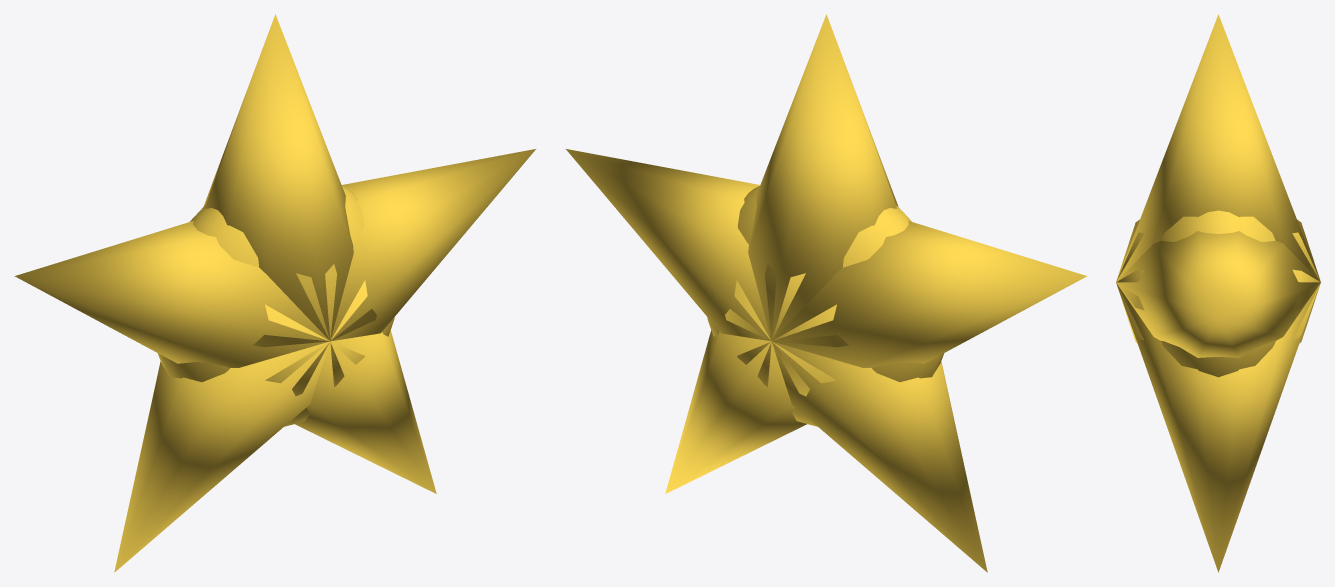
File: icon_star.glb
3 renders of one model, left to right at view 1: azimuth 30°, elevation 25°; view 2: azimuth 150°, elevation 25°; view 3: azimuth 270°, elevation 25°, orthographic. The views are drawn at different scales.
Parts seen in each view (by area): view 1: icon_star; view 2: icon_star; view 3: icon_star.
Boxes of the visible parts, x1,y1,x2,y2 form: icon_star: (14,14,535,572); icon_star: (566,14,1087,572); icon_star: (1116,14,1320,572).
Size of the model in its own units: 0.4945 by 0.4703 by 0.18.
